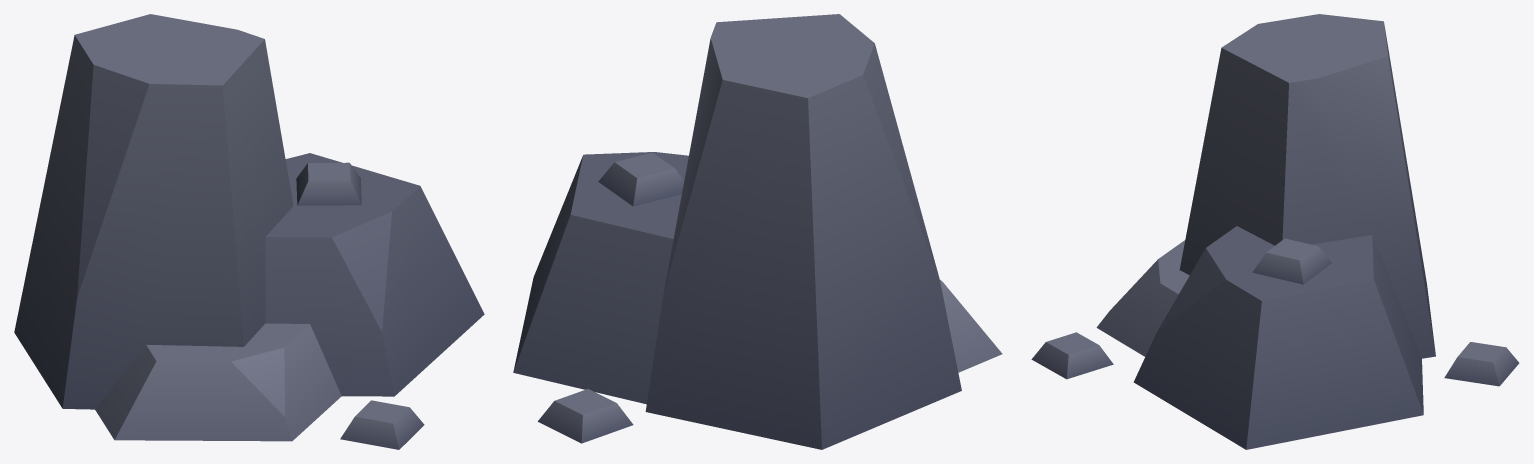
Rendered from rock-a.glb.
3 views of the same model, side by side, from view 1: azimuth 30°, elevation 25°; view 2: azimuth 150°, elevation 25°; view 3: azimuth 270°, elevation 25° (orthographic). The views are drawn at different scales.
Visible parts, largest first — view 1: rock-a; view 2: rock-a; view 3: rock-a.
Part boxes in pixels (box(x1,y1,x2,y2)): rock-a: box(14, 14, 484, 449); rock-a: box(513, 14, 1002, 449); rock-a: box(1031, 14, 1519, 449).
Bounding box in the file's own units: 0.5552 × 0.3927 × 0.6216.
